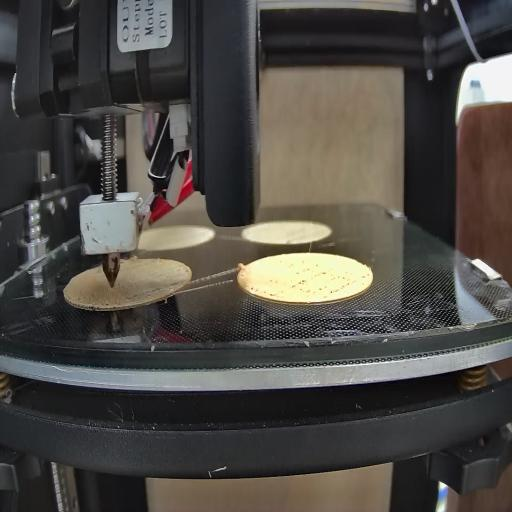under_extrusion: (76, 281, 186, 306), (289, 262, 365, 295), (250, 282, 280, 306)
